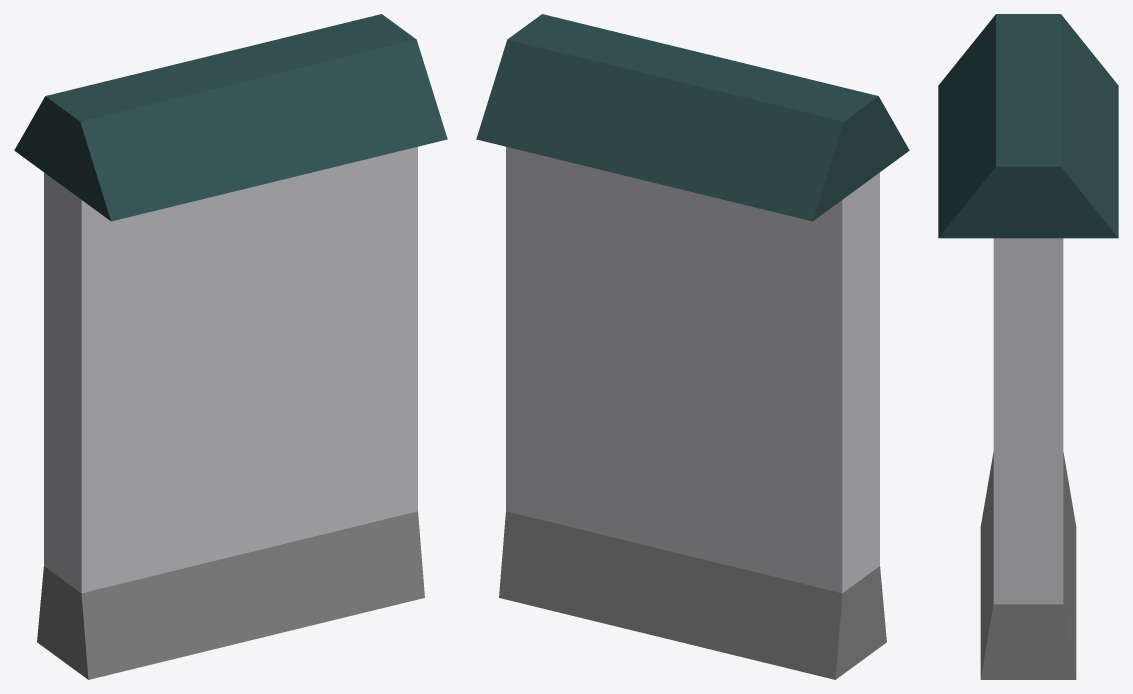
Rendered from Asian_Prop_Building_Fence_Wall_Simple_Small_02.FBX.
3 views of the same model, side by side, from view 1: azimuth 30°, elevation 25°; view 2: azimuth 150°, elevation 25°; view 3: azimuth 270°, elevation 25° (orthographic). The views are drawn at different scales.
Visible parts, largest first — view 1: Asian_Prop_Building_Fence_Wall_Simple_Small_02; view 2: Asian_Prop_Building_Fence_Wall_Simple_Small_02; view 3: Asian_Prop_Building_Fence_Wall_Simple_Small_02.
Part boxes in pixels (x1,y1,x2,y2): Asian_Prop_Building_Fence_Wall_Simple_Small_02: (14,14,447,679); Asian_Prop_Building_Fence_Wall_Simple_Small_02: (476,14,909,679); Asian_Prop_Building_Fence_Wall_Simple_Small_02: (938,14,1118,679).
Size of the model in its own units: 2584 by 4051 by 1290.
